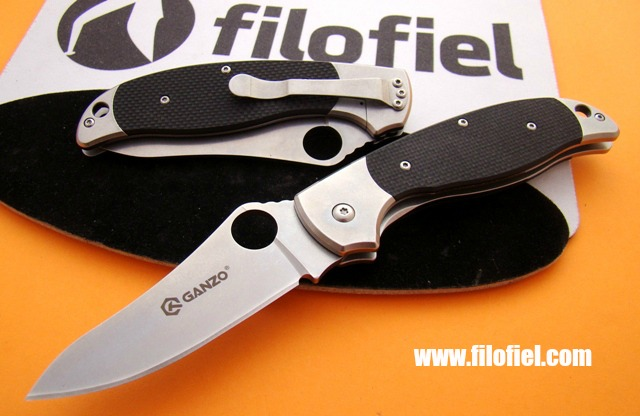knife: (11, 190, 357, 407)
